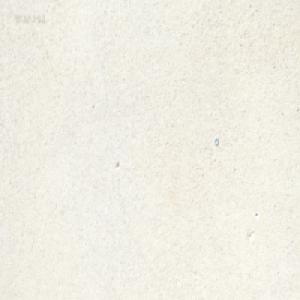Washer: (213, 137, 218, 146)
